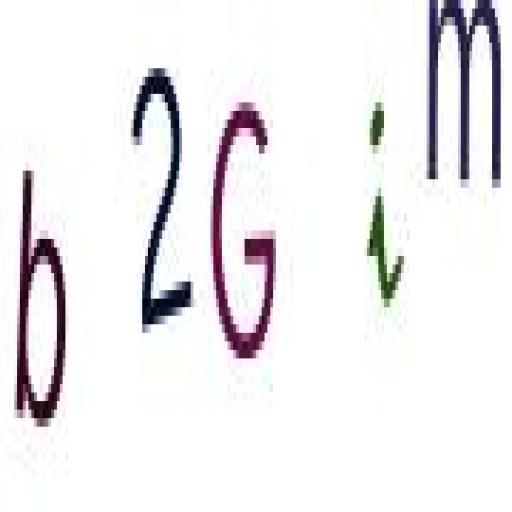2: (128, 58, 198, 337)
G: (206, 88, 284, 372)
b: (14, 158, 71, 432)
i: (360, 96, 408, 312)
m: (419, 0, 506, 199)
